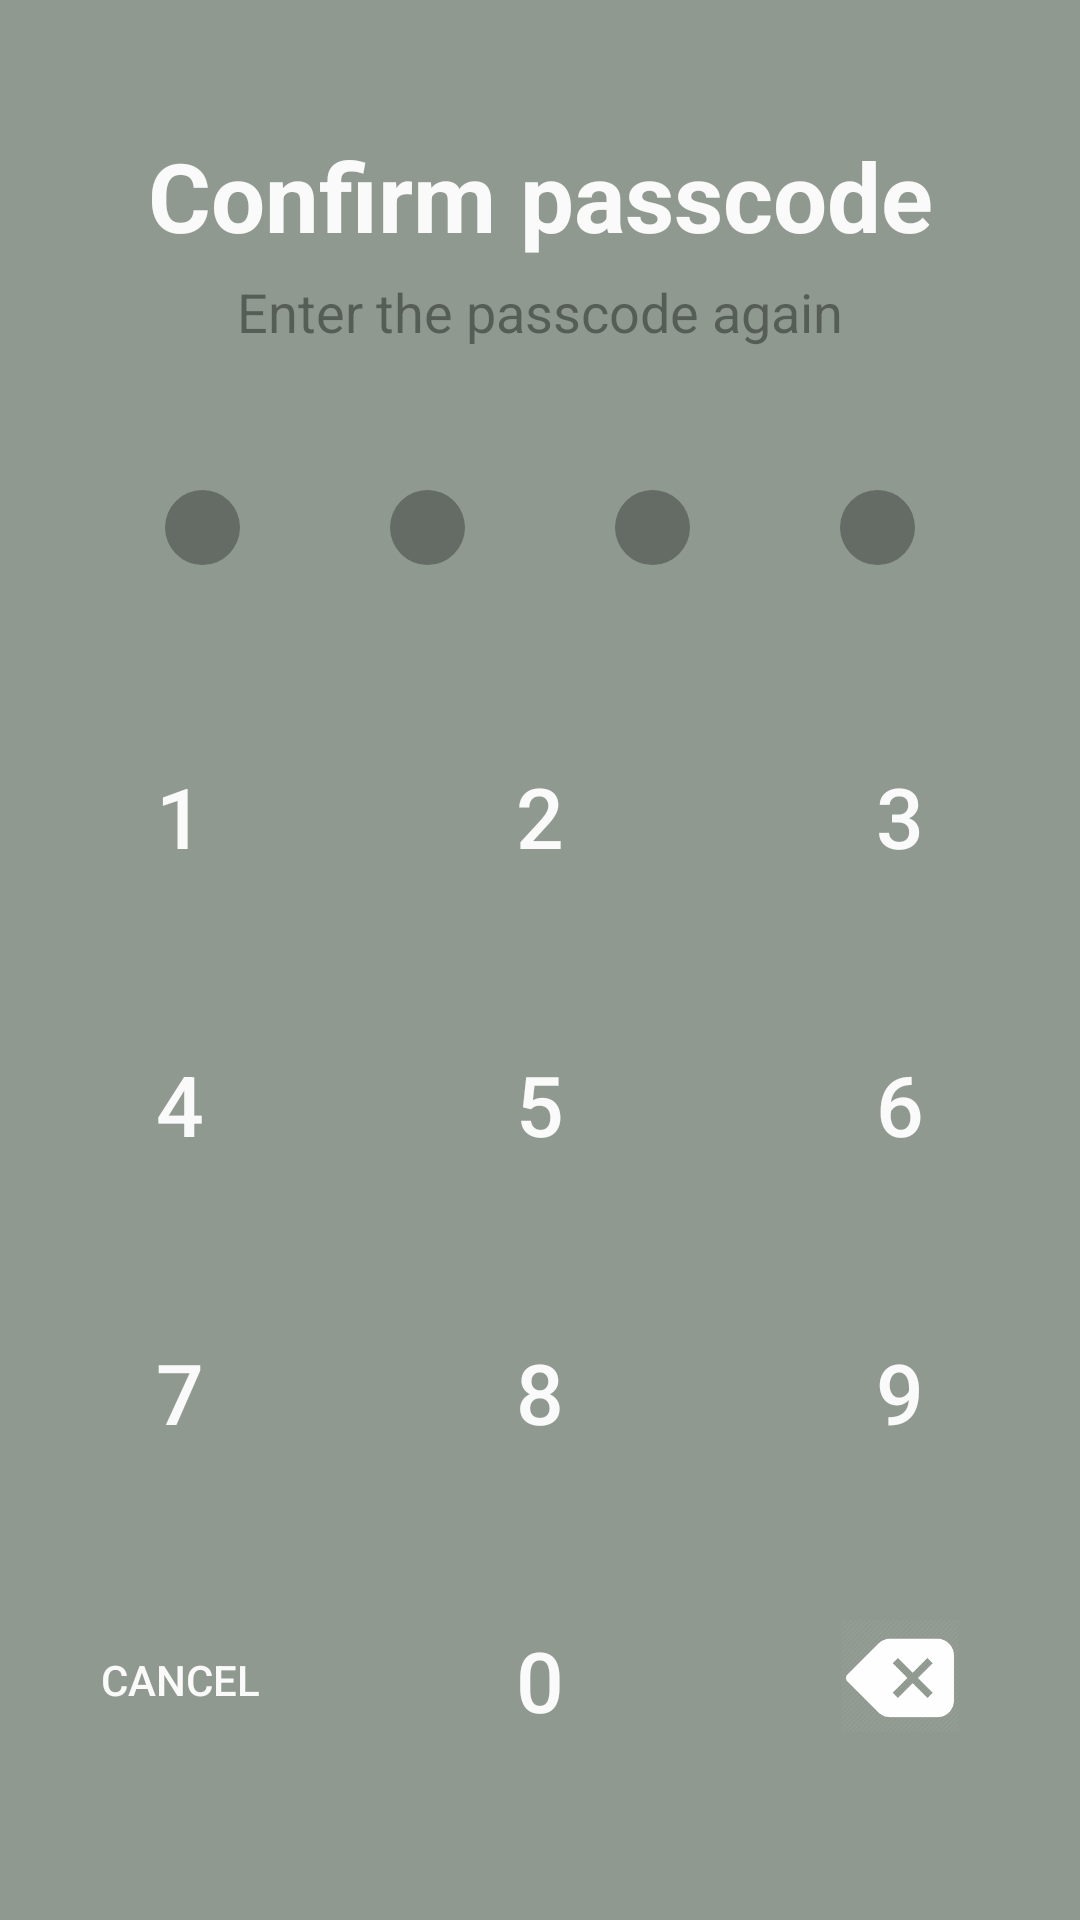

Point at icon controls on the screen. Image size 1080x1920, points as [x,y].
backspace: [900,1677]
